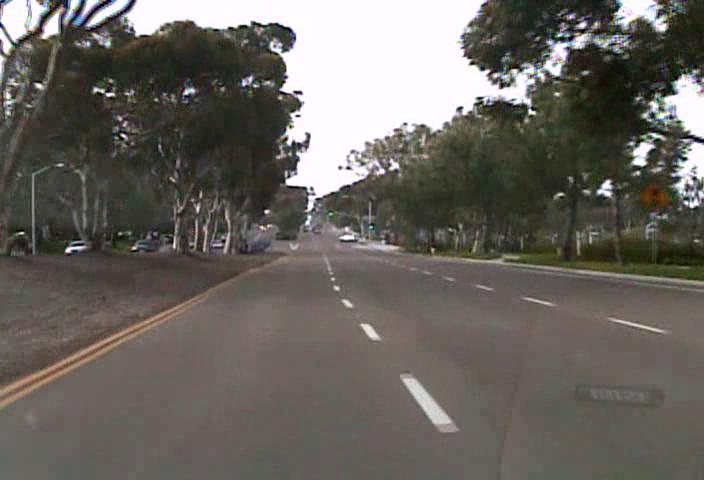signalAhead: (638, 180, 672, 214)
